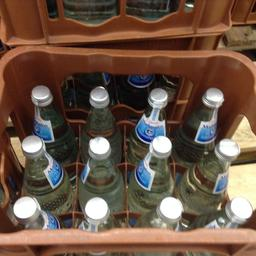water: (175, 136, 239, 217), (18, 134, 71, 208), (76, 135, 124, 210), (124, 135, 172, 207), (78, 85, 124, 160), (124, 85, 174, 152), (26, 81, 72, 153), (172, 87, 220, 151)
